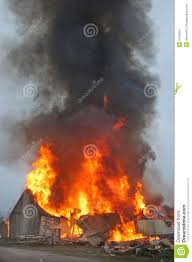smoke: (12, 1, 154, 146)
